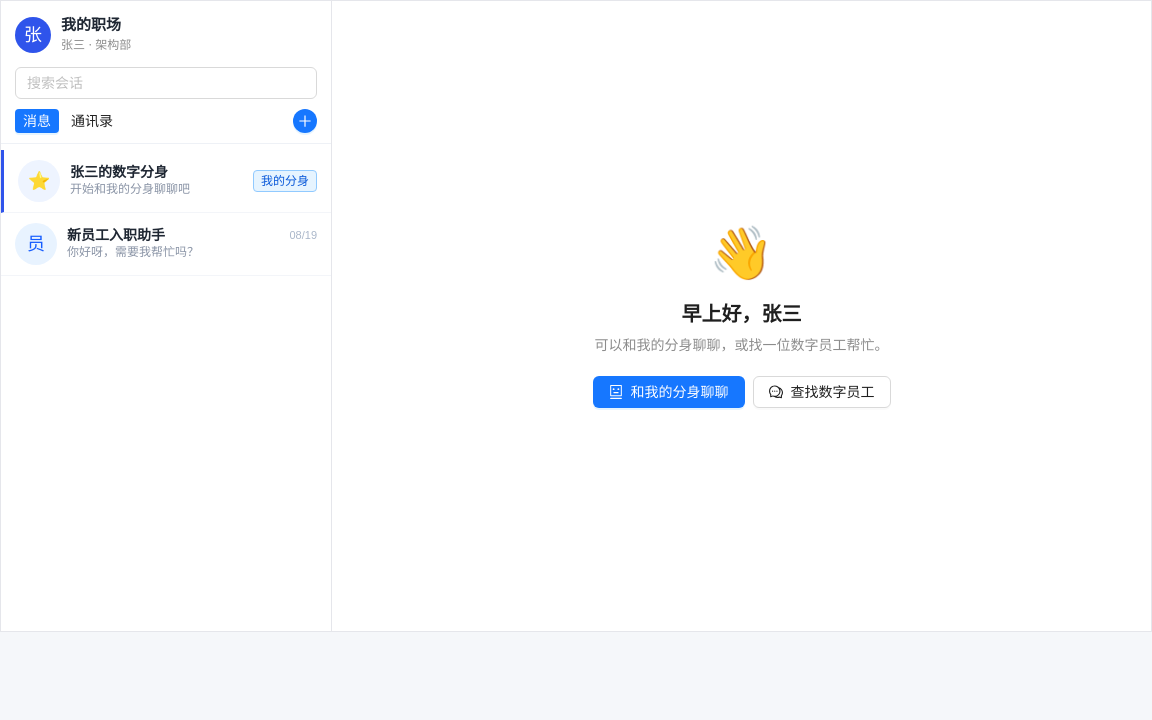
Test: WorkplacePage › 重新进入会话后保留已完成的执行轨迹
Click the text "新员工入职助手": (116, 235) [67,227,165,244]
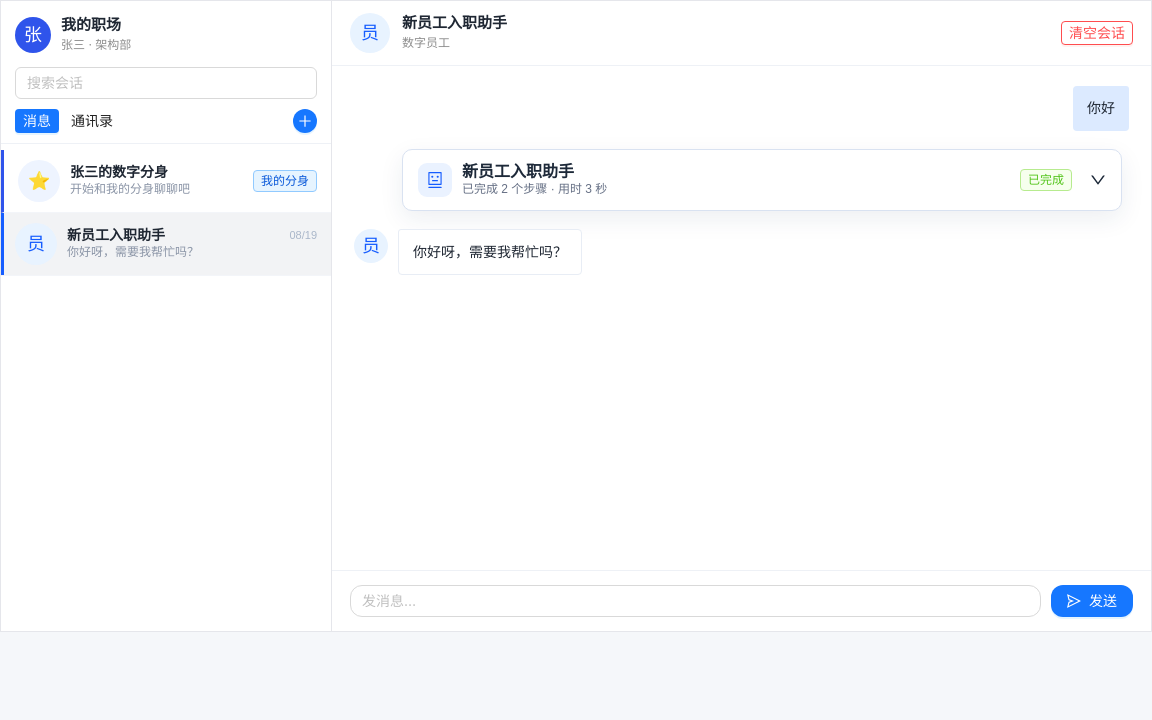
Check: the text "已完成 2 个步骤 · 用时 3 秒" is shown, box [462,182,607,196]
Click the button "新员工入职助手 已完成 2 个步骤 · 用时 3 秒 已完成": (435, 180) [403,150,1121,210]
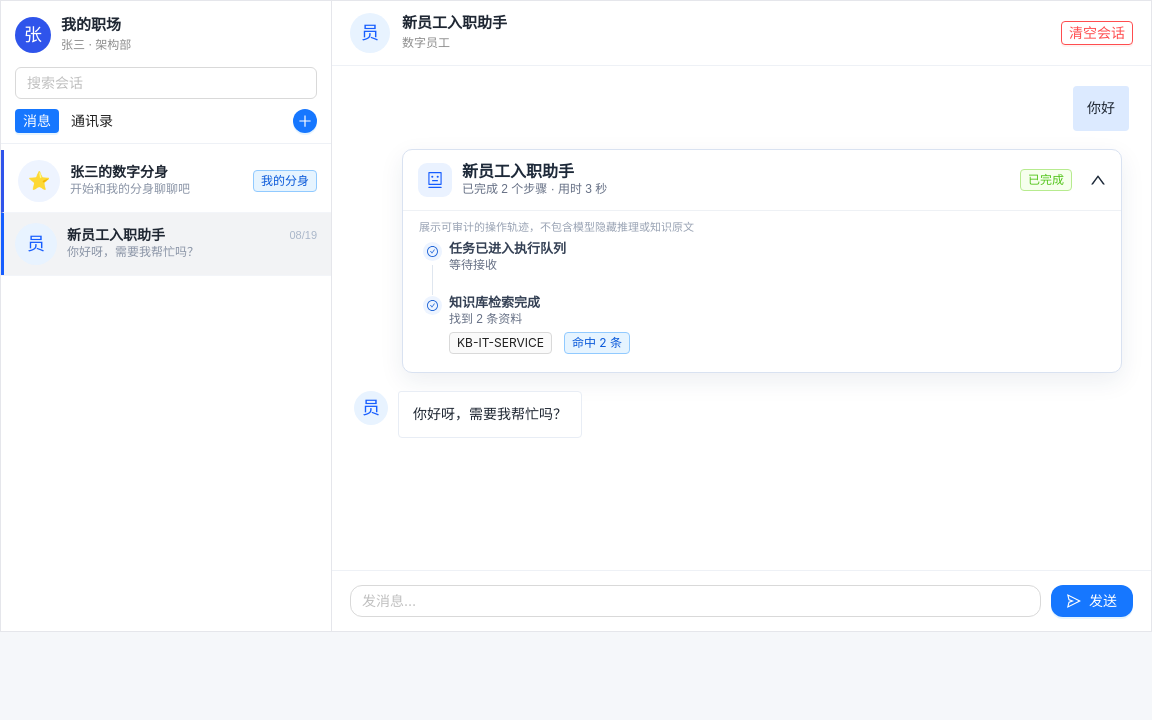
Check: the text "知识库检索完成" is shown, box [449,296,540,310]
Check: the text "找到 2 条资料" is shown, box [449,312,522,326]
